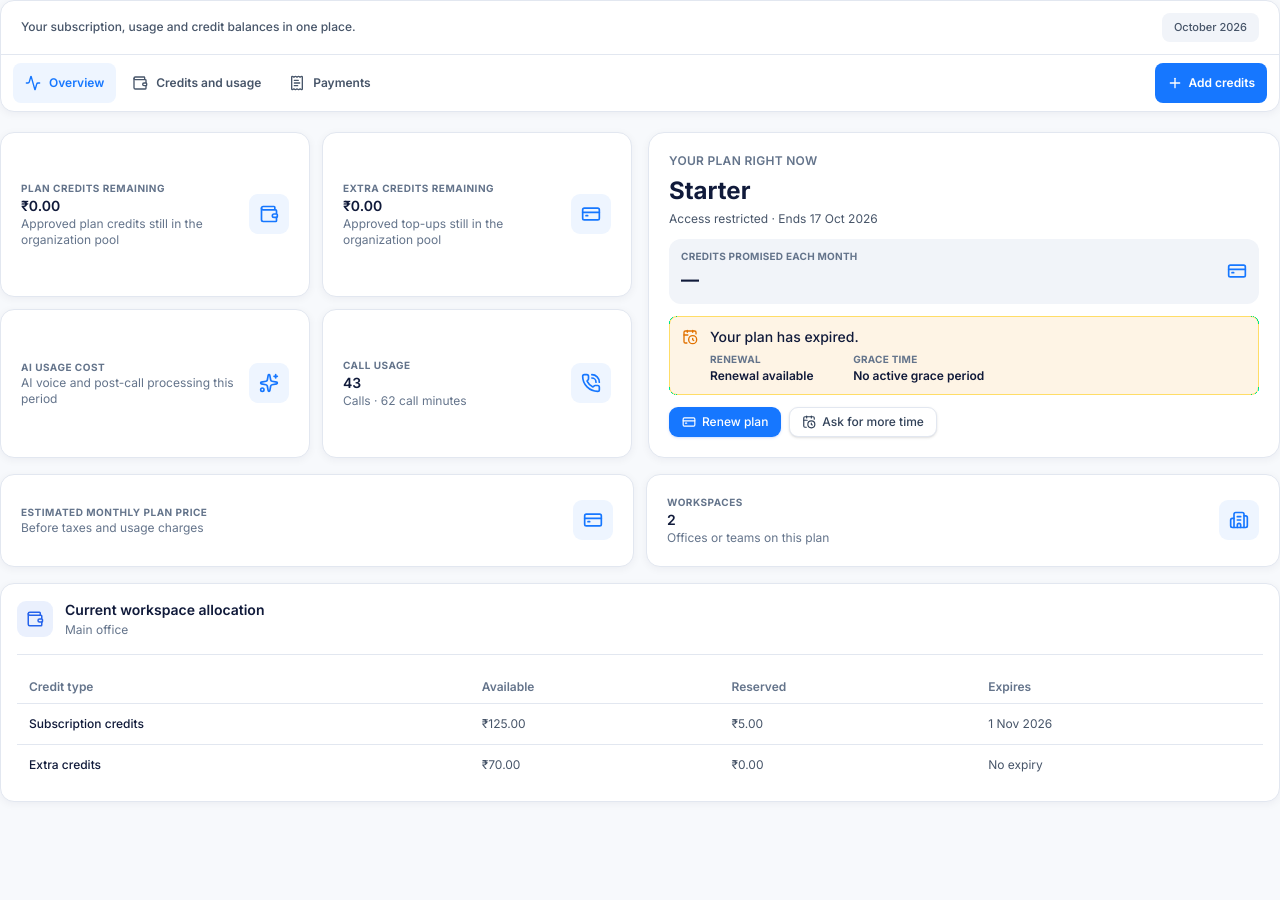
organization billing interface › opens the renewal overlay from the expired plan card
Expected: the text "Estimated monthly plan price" is shown, [21, 506, 207, 518]
Click the button "Renew plan" at (725, 422), box [669, 407, 781, 437]
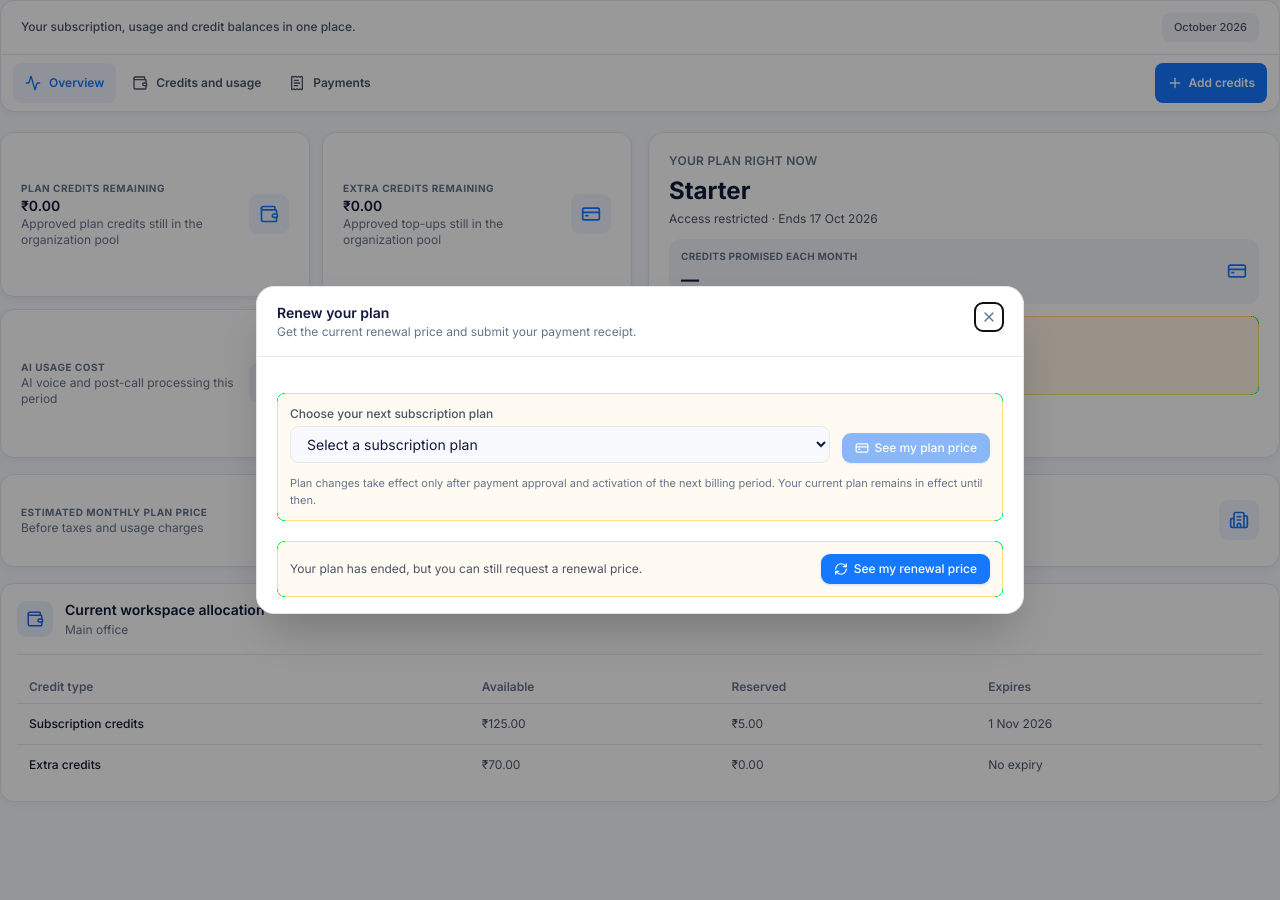
Now the dialog is shown, box [256, 286, 1024, 614]
Now the heading "Renew your plan" is shown, box [277, 304, 389, 321]
